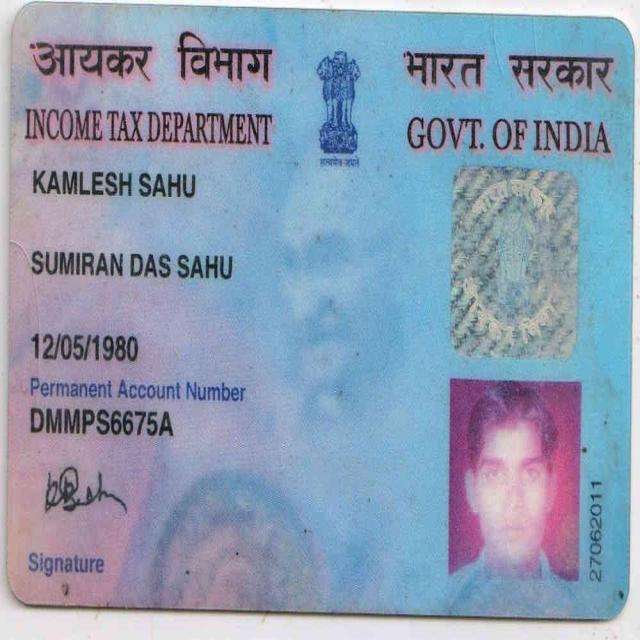pan_card: (15, 12, 629, 611)
